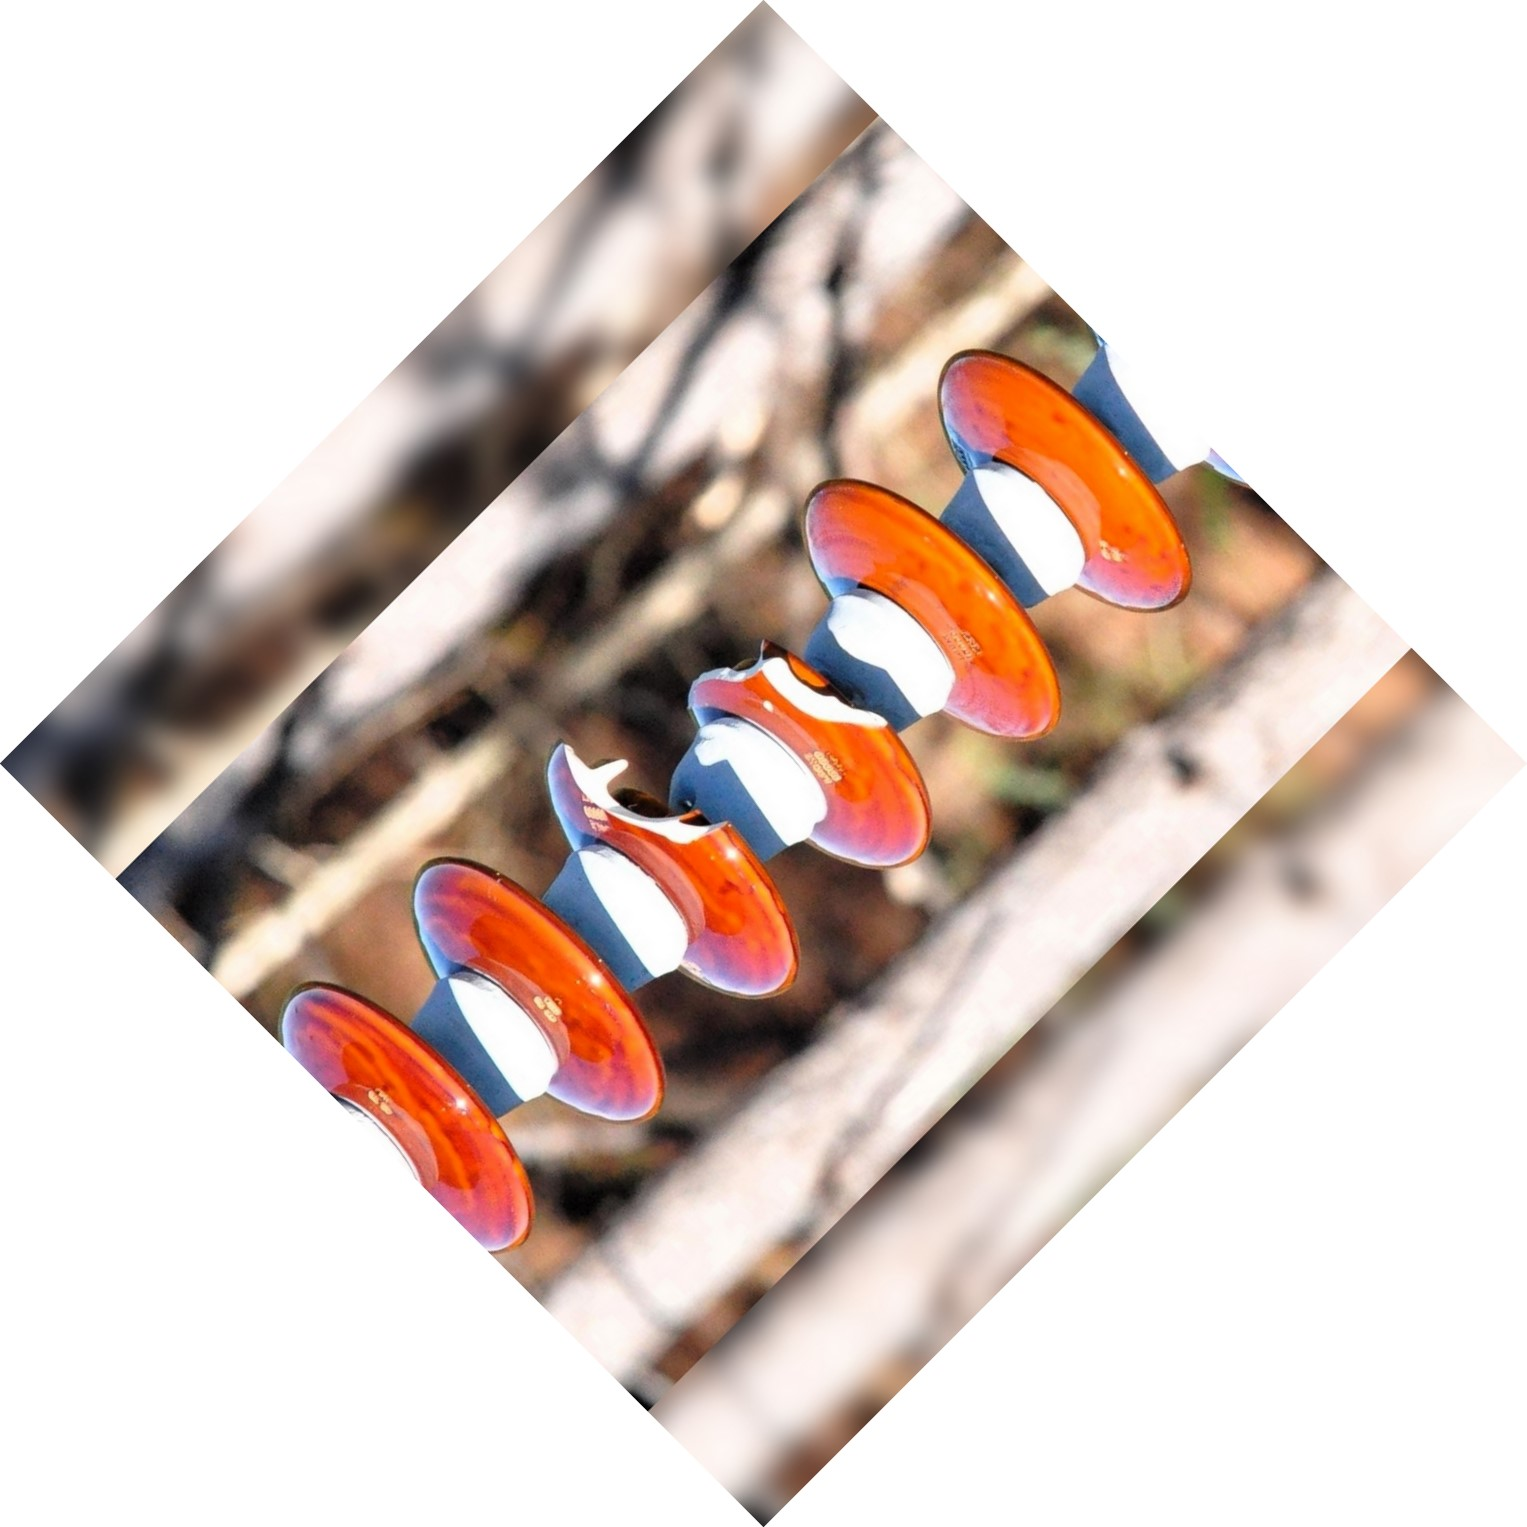insulator breakage: (536, 589, 947, 1003)
